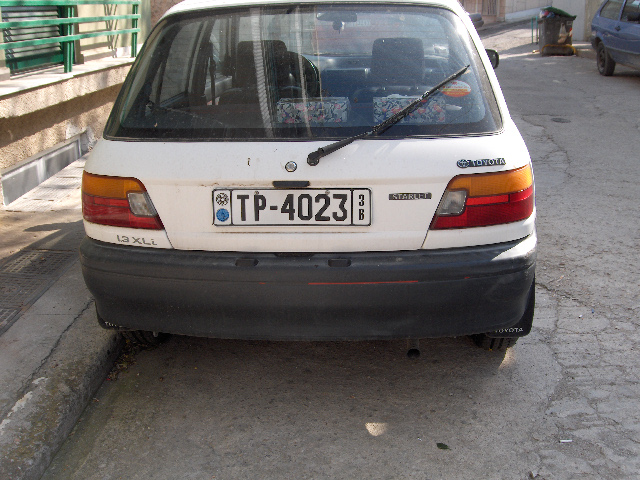licenseplate: (212, 187, 372, 226)
